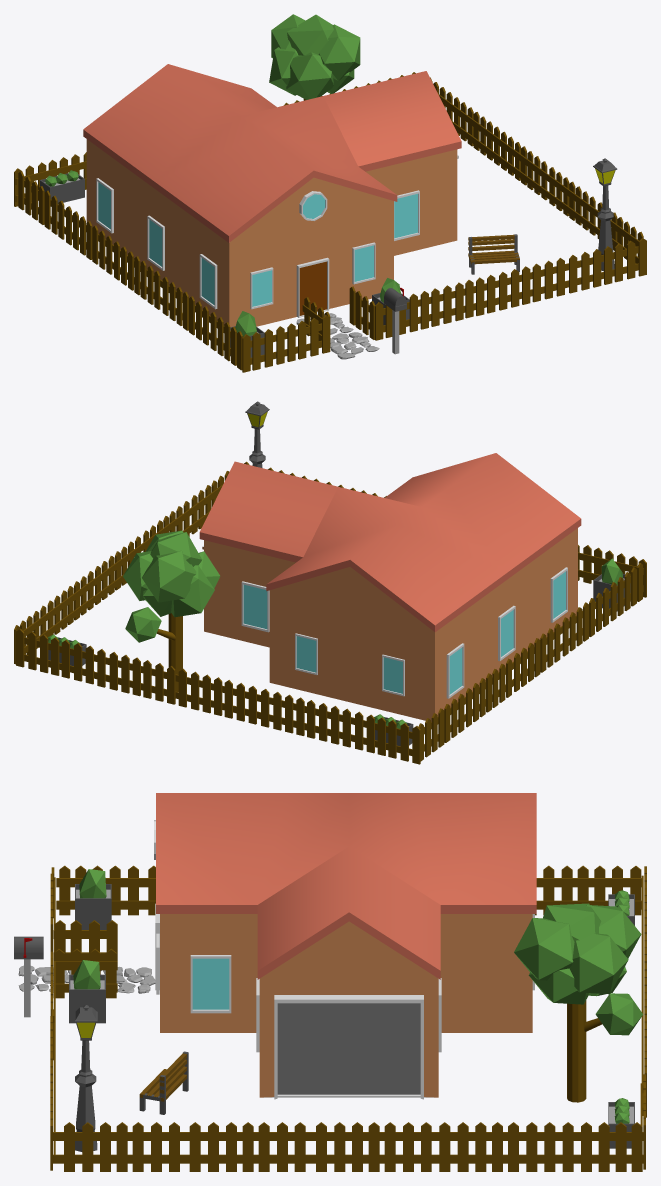
3 views of the same model, one above another, from view 1: azimuth 30°, elevation 25°; view 2: azimuth 150°, elevation 25°; view 3: azimuth 270°, elevation 25° (orthographic). The views are drawn at different scales.
Parts seen in each view (by area): view 1: ev_posta1; view 2: ev_posta1; view 3: ev_posta1.
Part boxes in pixels (left/top/right/bottom): ev_posta1: left=14, top=14, right=646, bottom=372; ev_posta1: left=14, top=401, right=646, bottom=764; ev_posta1: left=14, top=793, right=646, bottom=1171.
Size of the model in its own units: 25.08 by 9.22 by 25.9.
